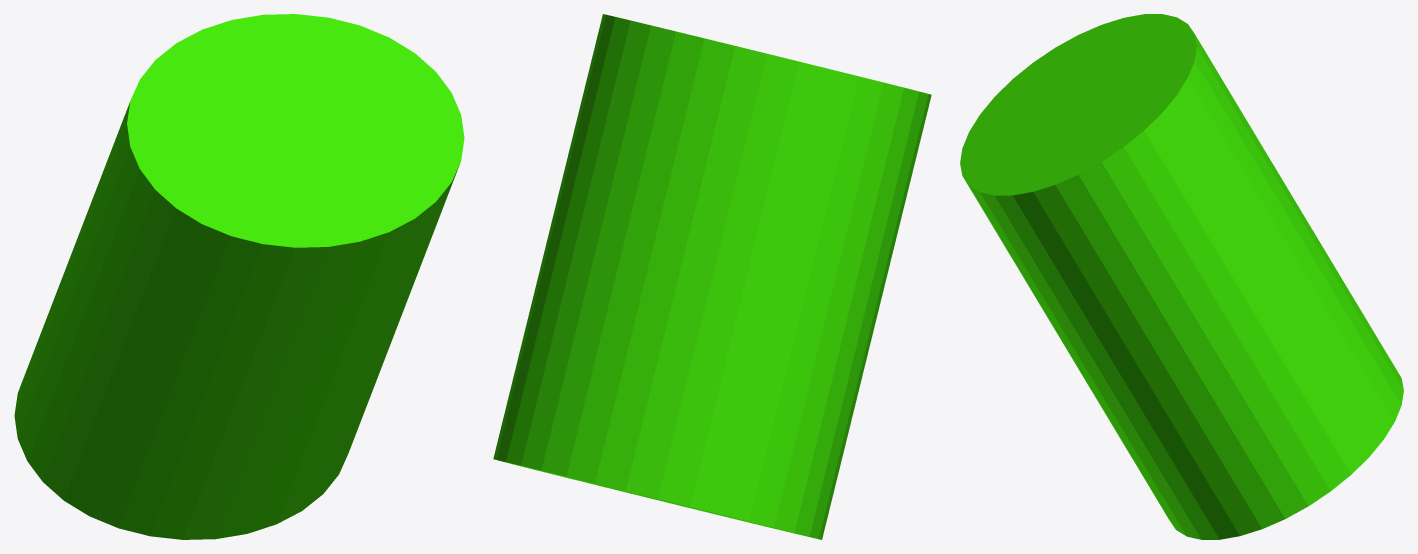
The model's file is asset.glb.
3 renders of one model, left to right at view 1: azimuth 30°, elevation 25°; view 2: azimuth 150°, elevation 25°; view 3: azimuth 270°, elevation 25°, orthographic. The views are drawn at different scales.
Visible parts, largest first — view 1: Cylinder; view 2: Cylinder; view 3: Cylinder.
Part boxes in pixels (x1=…): Cylinder: x1=14, y1=14, x2=464, y2=539; Cylinder: x1=493, y1=14, x2=931, y2=539; Cylinder: x1=960, y1=14, x2=1403, y2=539.
Size of the model in its own units: 1.95 by 3 by 2.61.
